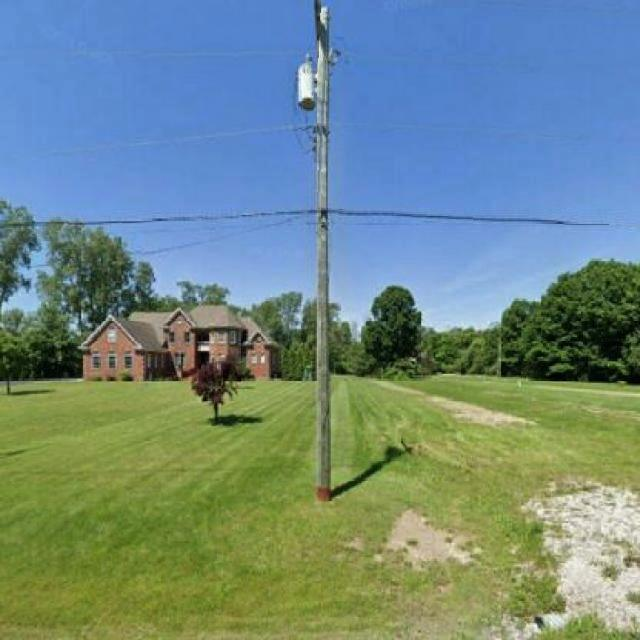pole: (317, 1, 329, 354)
transformer: (300, 65, 314, 112)
wire: (0, 209, 640, 225)
